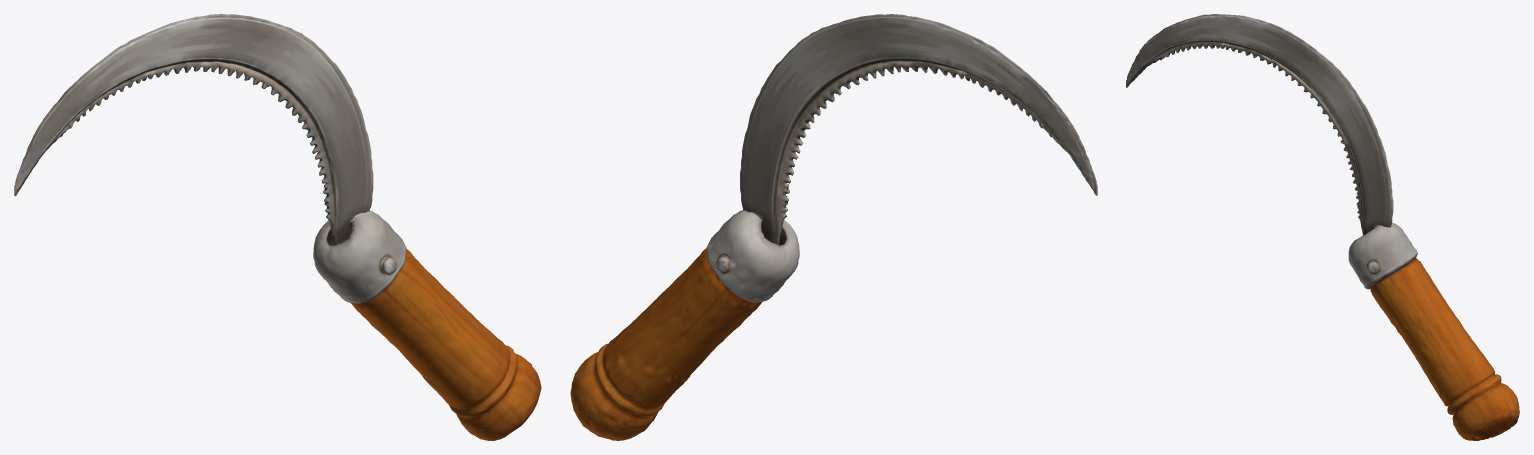
The model's file is sickle.glb.
3 renders of one model, left to right at view 1: azimuth 30°, elevation 25°; view 2: azimuth 150°, elevation 25°; view 3: azimuth 330°, elevation 25°, orthographic. The views are drawn at different scales.
Visible parts, largest first — view 1: tripo_node_24c1999a-f6bc-4785-ac74-fe30fabe07cc; view 2: tripo_node_24c1999a-f6bc-4785-ac74-fe30fabe07cc; view 3: tripo_node_24c1999a-f6bc-4785-ac74-fe30fabe07cc.
Part boxes in pixels (x1,y1,x2,y2): tripo_node_24c1999a-f6bc-4785-ac74-fe30fabe07cc: (14, 14, 541, 440); tripo_node_24c1999a-f6bc-4785-ac74-fe30fabe07cc: (570, 14, 1097, 440); tripo_node_24c1999a-f6bc-4785-ac74-fe30fabe07cc: (1126, 14, 1519, 440).
Bounding box in the file's own units: 0.979 × 0.8832 × 0.1514.
1 material, 1 textured.
